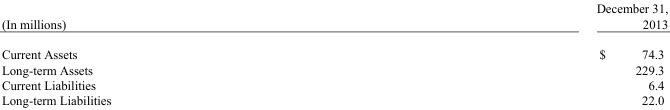table: (0, 0, 667, 107)
table column: (0, 0, 353, 107), (353, 0, 667, 107)
table column header: (0, 0, 667, 38)
table row: (0, 0, 667, 38), (0, 38, 667, 61), (0, 61, 667, 77), (0, 77, 667, 92), (0, 92, 667, 107)
